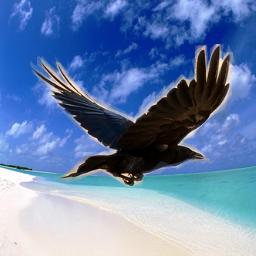Crow: (30, 44, 235, 187)
